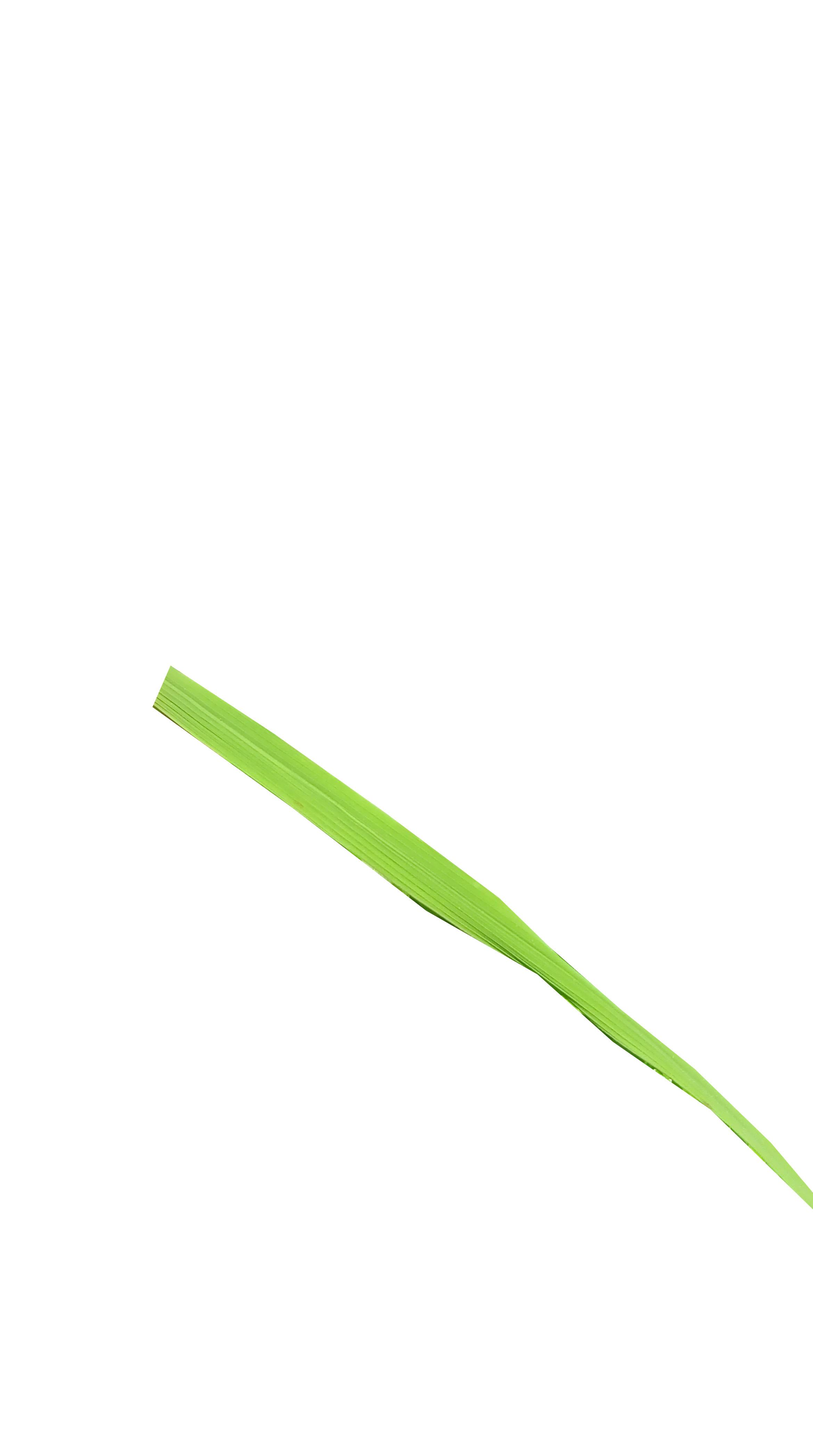Tungro: (145, 663, 405, 881)
